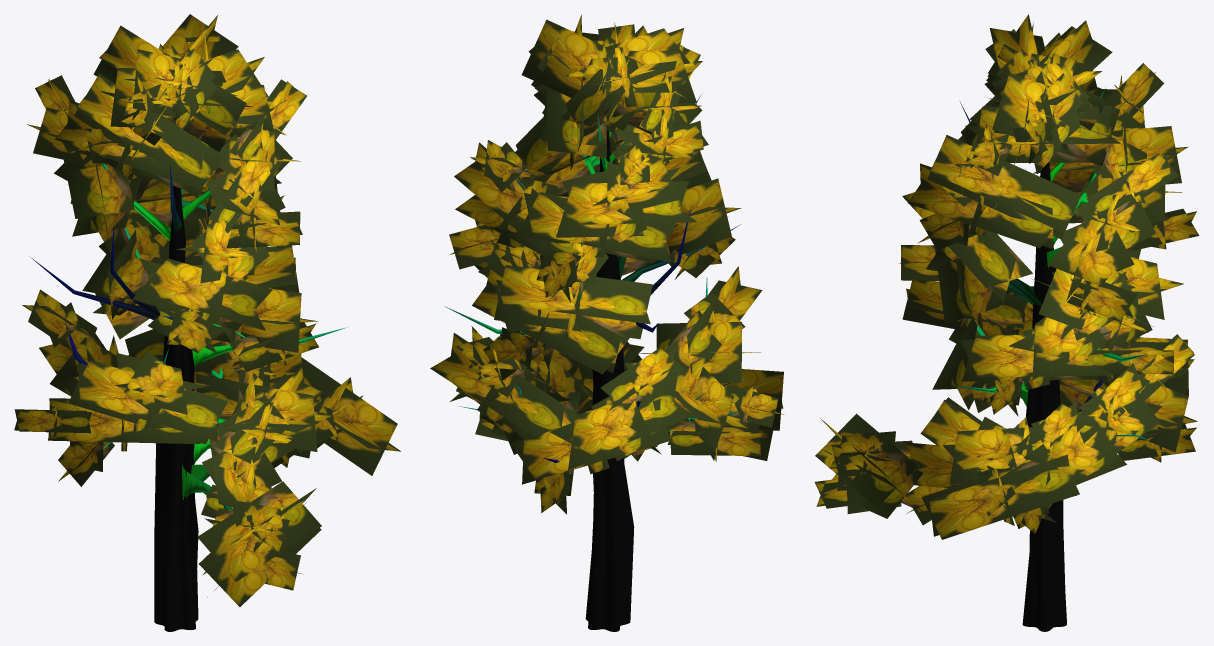
Rendered from arvore_folha_amarela_variante_2.fbx.
3 renders of one model, left to right at view 1: azimuth 30°, elevation 25°; view 2: azimuth 150°, elevation 25°; view 3: azimuth 270°, elevation 25°, orthographic. The views are drawn at different scales.
Parts seen in each view (by area): view 1: branch07_1, bark01_0; view 2: branch07_1, bark01_0; view 3: branch07_1, bark01_0.
Boxes of the visible parts, left/top/right/bottom form: branch07_1: left=14, top=14, right=400, bottom=606; bark01_0: left=29, top=106, right=346, bottom=631; branch07_1: left=430, top=14, right=783, bottom=514; bark01_0: left=444, top=94, right=740, bottom=631; branch07_1: left=814, top=14, right=1199, bottom=539; bark01_0: left=953, top=87, right=1149, bottom=631.
Size of the model in its own units: 457 by 761 by 454.
